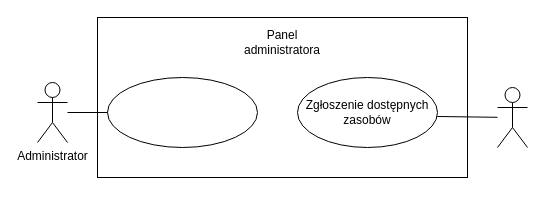
The diagram is 560 pixels wide and 201 high, and some of its shapes have lost their labels. The shapes that lost their labels are listed below. From the top down, each one's box as (x1, y1, x2, y2) in pixels, then its label:
(106, 76, 258, 148): Podgląd zasobów serwerów wirtualizacji
(496, 86, 528, 148): Serwer wirtualizacji
